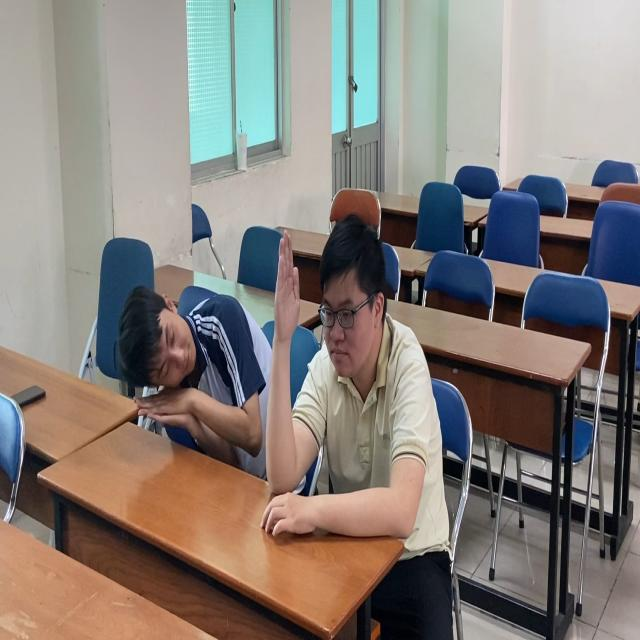raise_hand: (266, 217, 455, 547)
